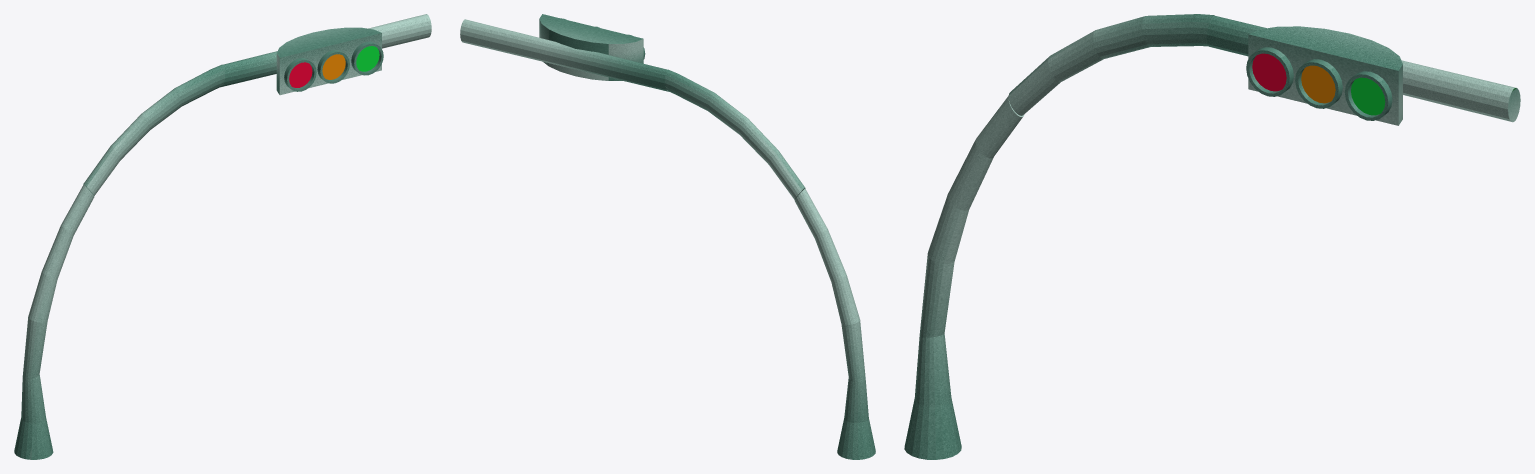
File: TrafficLight.fbx
3 views of the same model, side by side, from view 1: azimuth 30°, elevation 25°; view 2: azimuth 150°, elevation 25°; view 3: azimuth 330°, elevation 25° (orthographic). The views are drawn at different scales.
Visible parts, largest first — view 1: polySurface3, polySurface4, pCylinder2, polySurface2, pCylinder5, pCylinder4, pCylinder3; view 2: polySurface3, polySurface2, polySurface4, pCylinder2; view 3: polySurface3, polySurface4, pCylinder2, polySurface2, pCylinder4, pCylinder3, pCylinder5.
Boxes of the visible parts, bbox=[...] form: polySurface3: bbox=[14, 185, 94, 459]; polySurface4: bbox=[83, 64, 224, 195]; pCylinder2: bbox=[276, 27, 381, 95]; polySurface2: bbox=[221, 14, 431, 86]; pCylinder5: bbox=[351, 41, 383, 75]; pCylinder4: bbox=[284, 58, 316, 91]; pCylinder3: bbox=[317, 50, 349, 83]; polySurface3: bbox=[794, 189, 875, 459]; polySurface2: bbox=[460, 19, 668, 91]; polySurface4: bbox=[665, 69, 805, 199]; pCylinder2: bbox=[539, 14, 643, 80]; polySurface3: bbox=[904, 96, 1023, 459]; polySurface4: bbox=[1008, 14, 1214, 115]; pCylinder2: bbox=[1248, 26, 1402, 125]; polySurface2: bbox=[1206, 15, 1520, 122]; pCylinder4: bbox=[1246, 47, 1293, 96]; pCylinder3: bbox=[1295, 59, 1342, 108]; pCylinder5: bbox=[1344, 71, 1392, 120].
Bounding box in the file's own units: 5.1 × 4.13 × 0.6409.
